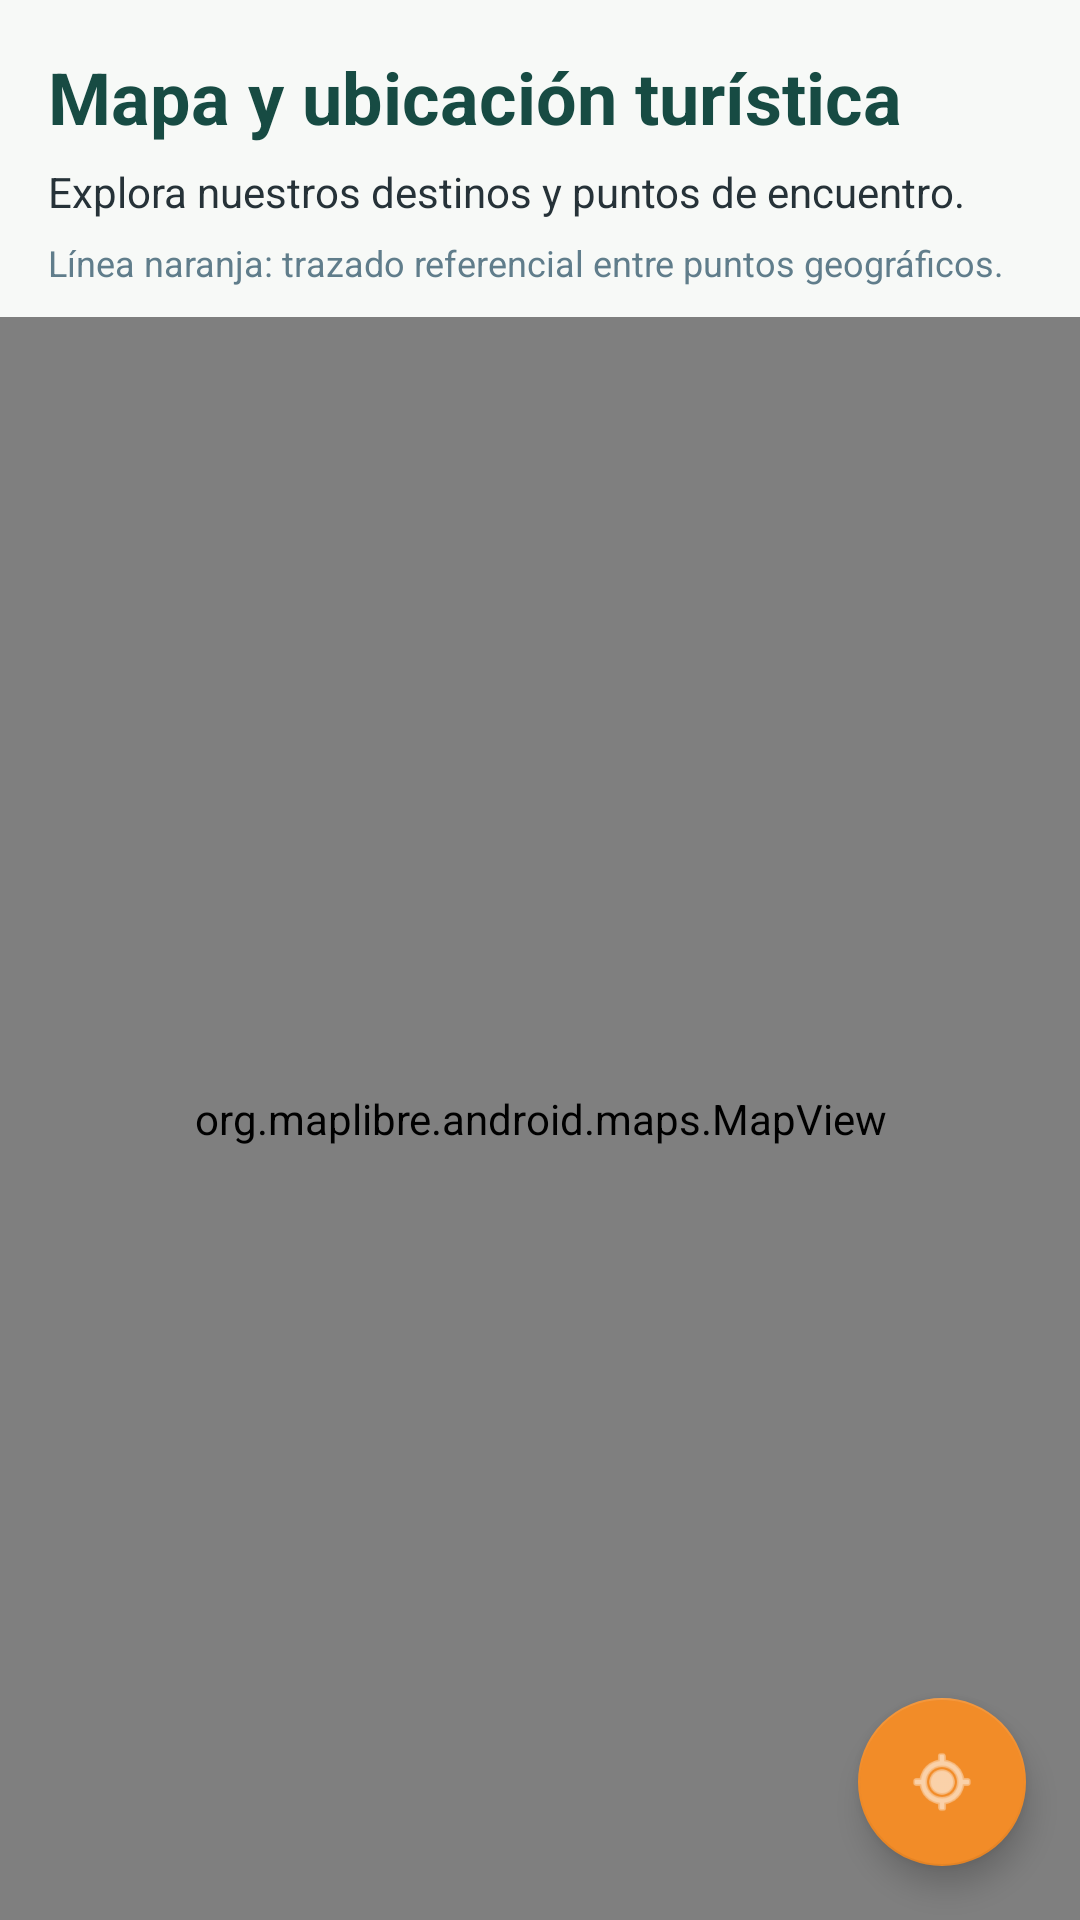

Icons on this 1080*1920 Android screen, each with the point to tap as (x=x, y=y):
Mostrar mi ubicación actual: (x=942, y=1782)
